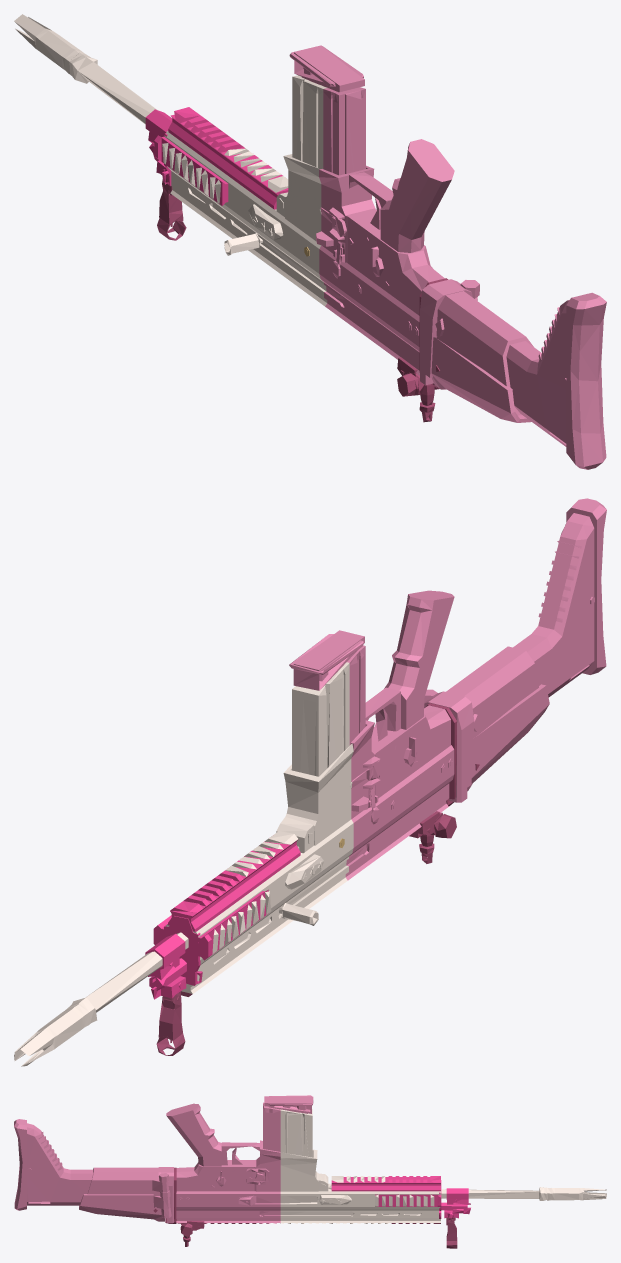
The model's file is Marksman_SCARH.obj.
The picture shows the model from 3 angles, top to bottom: view 1: azimuth 30°, elevation 25°; view 2: azimuth 150°, elevation 25°; view 3: azimuth 270°, elevation 25°; orthographic projection. The views are drawn at different scales.
Parts seen in each view (by area): view 1: Body, Panel, Accent, Grip, Mag; view 2: Body, Panel, Accent, Grip, Mag; view 3: Body, Panel, Accent, Grip, Mag.
Part boxes in pixels (x1=…): Body: x1=289, y1=45, x2=606, y2=469; Panel: x1=14, y1=14, x2=327, y2=306; Accent: x1=145, y1=107, x2=288, y2=209; Grip: x1=397, y1=278, x2=448, y2=422; Mag: x1=157, y1=178, x2=186, y2=240; Body: x1=289, y1=498, x2=606, y2=880; Panel: x1=14, y1=662, x2=353, y2=1066; Accent: x1=145, y1=839, x2=300, y2=999; Grip: x1=409, y1=703, x2=479, y2=863; Mag: x1=156, y1=991, x2=192, y2=1055; Body: x1=14, y1=1095, x2=313, y2=1223; Panel: x1=280, y1=1109, x2=606, y2=1223; Accent: x1=331, y1=1176, x2=470, y2=1218; Grip: x1=153, y1=1167, x2=256, y2=1246; Mag: x1=391, y1=1217, x2=457, y2=1248.
Bounding box in the file's own units: 0.2775 × 1.05 × 3.8.
